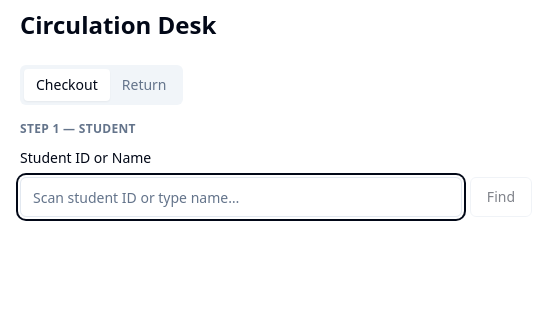
Test: CheckoutTab › shows dropdown when multiple students match
The width and height of the screenshot is (550, 320).
In the field labelled "Student ID or Name": (241, 197) left=20, top=177, right=462, bottom=217, type "Juan"
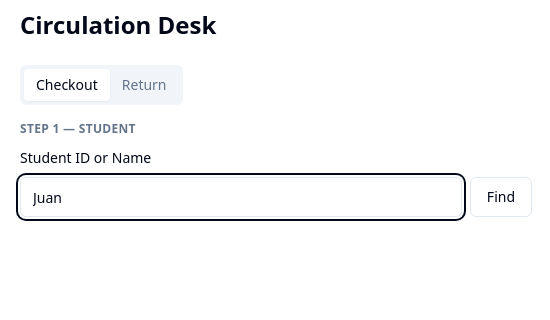
Click the button "Find": (501, 197) left=470, top=177, right=532, bottom=217
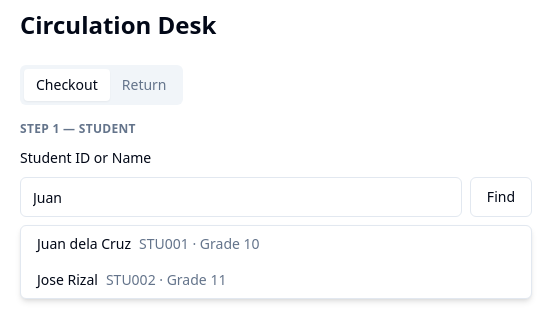
Expected: the button "Juan dela Cruz" is shown, left=21, top=226, right=531, bottom=262
Expected: the button "Jose Rizal" is shown, left=21, top=262, right=531, bottom=298
